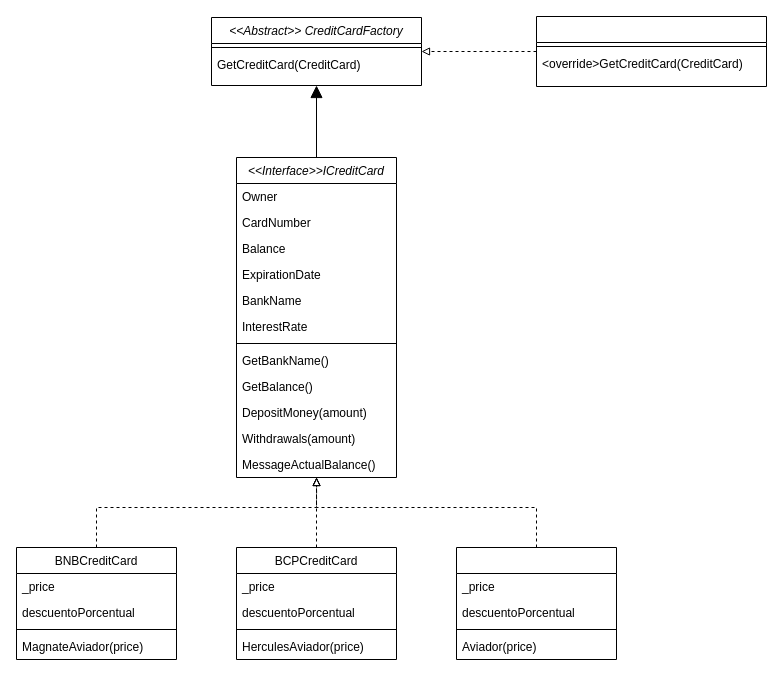
This 783x676 diagram has some shape labels left out. Each missing label, with the box of its shape:
BMSCCreditCard: (456, 546, 616, 660)
ConcreteCreditCardFactory: (536, 16, 766, 86)
